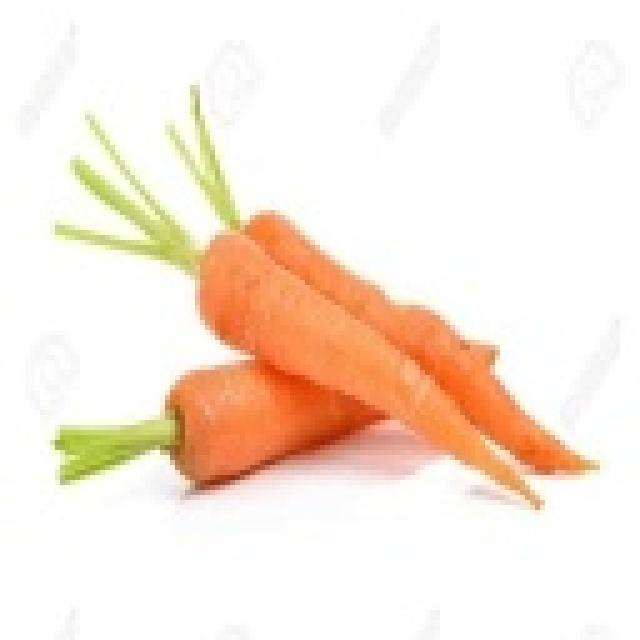carrot: (80, 372, 298, 476), (120, 222, 276, 348)
